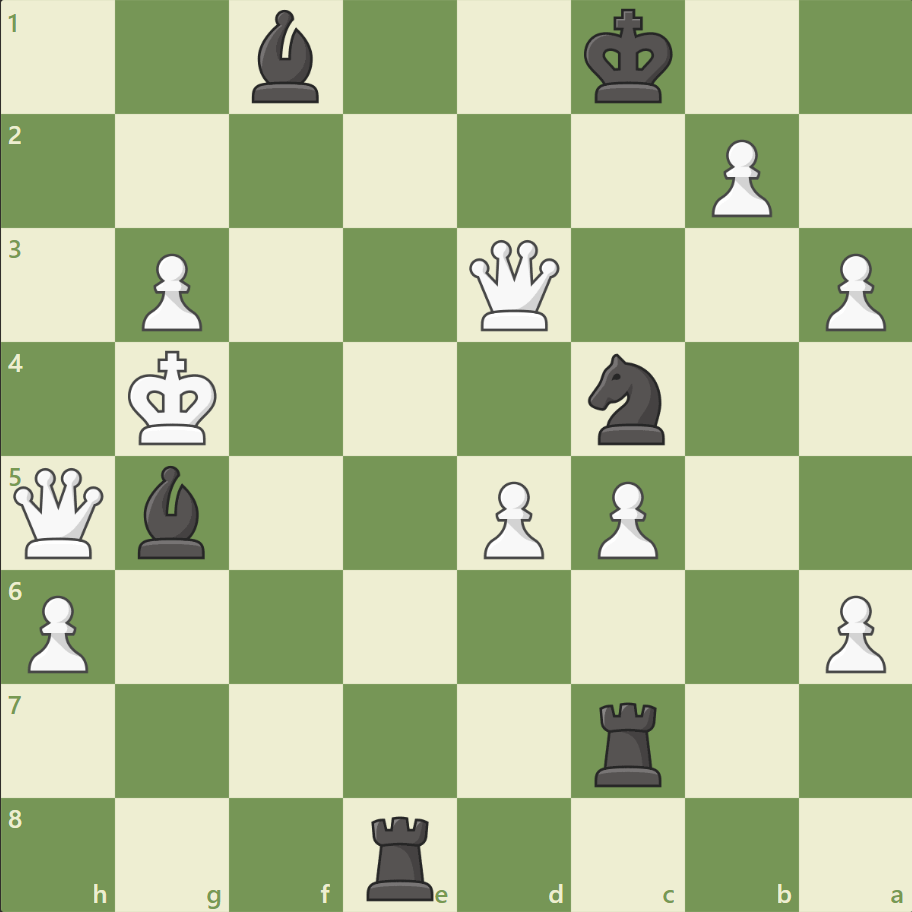K: (124, 344, 224, 452)
P: (20, 586, 95, 677), (474, 473, 549, 564), (133, 246, 208, 337), (701, 132, 776, 223), (815, 586, 889, 677), (588, 473, 662, 564), (815, 246, 889, 337)
Q: (10, 463, 109, 562), (464, 236, 563, 335)
b: (131, 460, 215, 563), (244, 6, 328, 109)
k: (579, 4, 679, 112)
n: (579, 348, 676, 450)
r: (587, 693, 670, 790), (360, 806, 442, 904)
